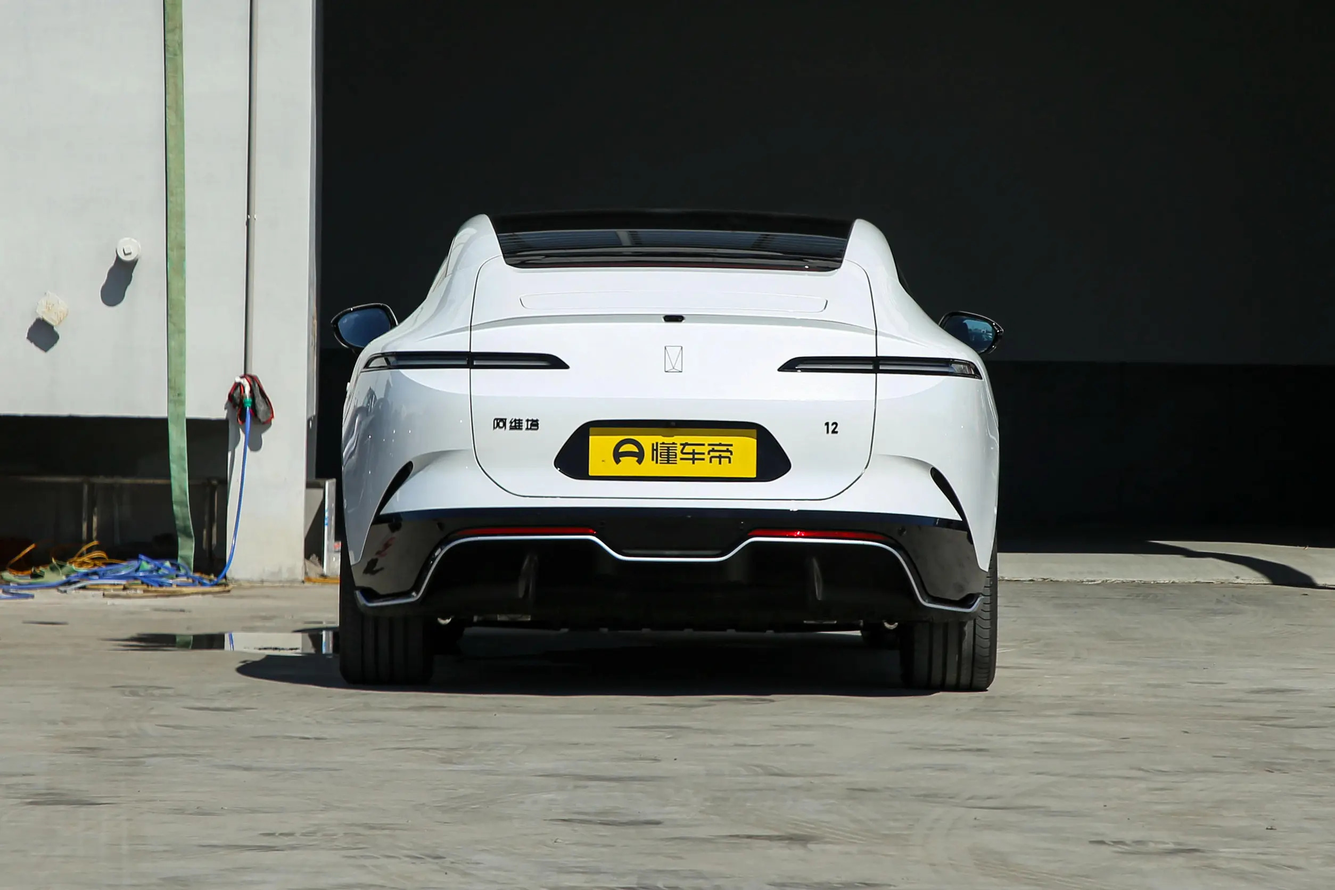AVATR: (665, 346, 682, 372)
